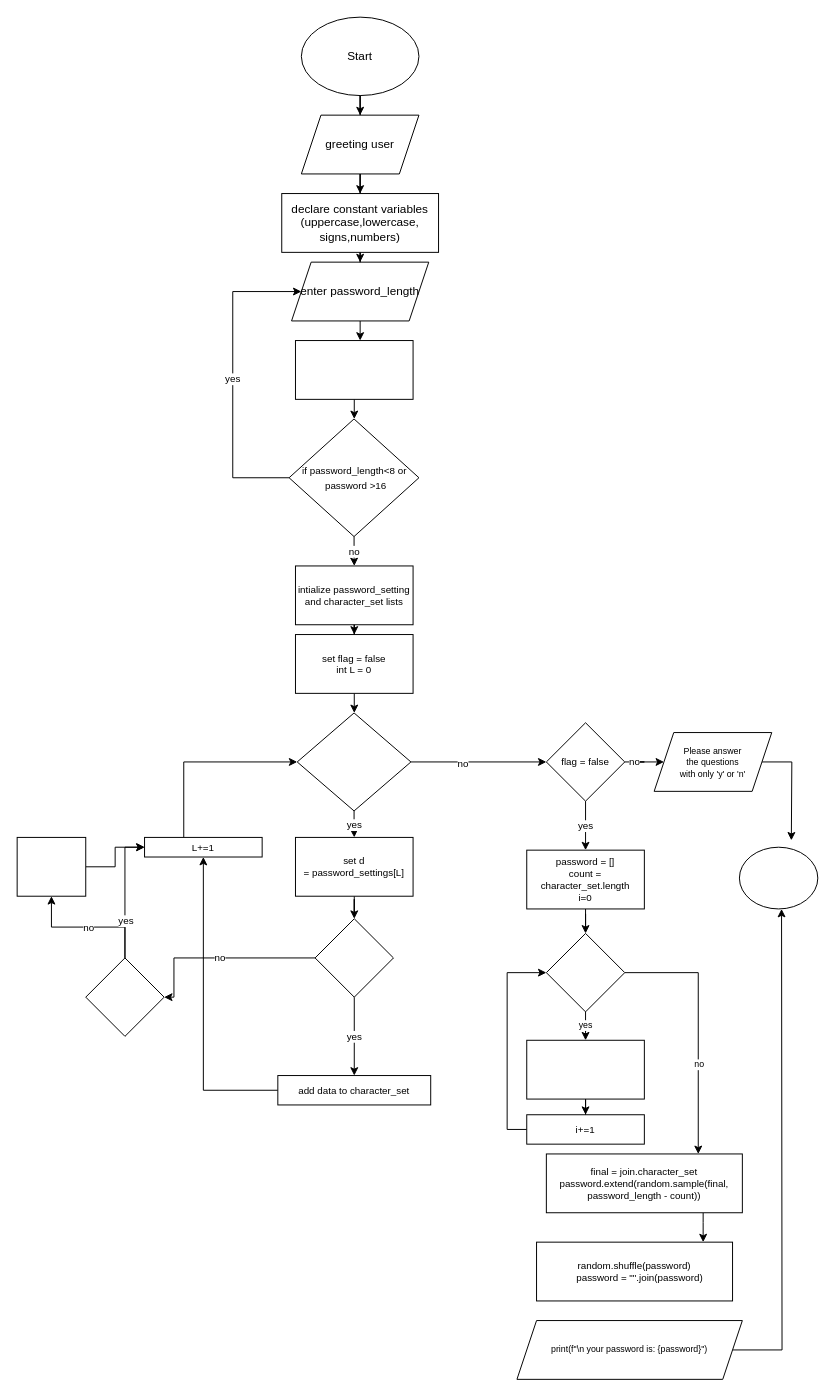
The diagram is 835 pixels wide and 1397 high, and some of its shapes have lost their labels. The shapes that lost their labels are listed below. From the top down, each one's centre as x and y in pixels, then its label:
At (x=353, y=369): "convert password_length to integer".
At (x=353, y=761): "L < password_ setting.length".
At (x=51, y=866): "set flag = true".
At (x=778, y=877): "end".
At (x=353, y=957): "d = y".
At (x=585, y=972): "i<character _set.length".
At (x=124, y=996): "d = n".
At (x=585, y=1069): "append random choice from character_set[i] into password".
